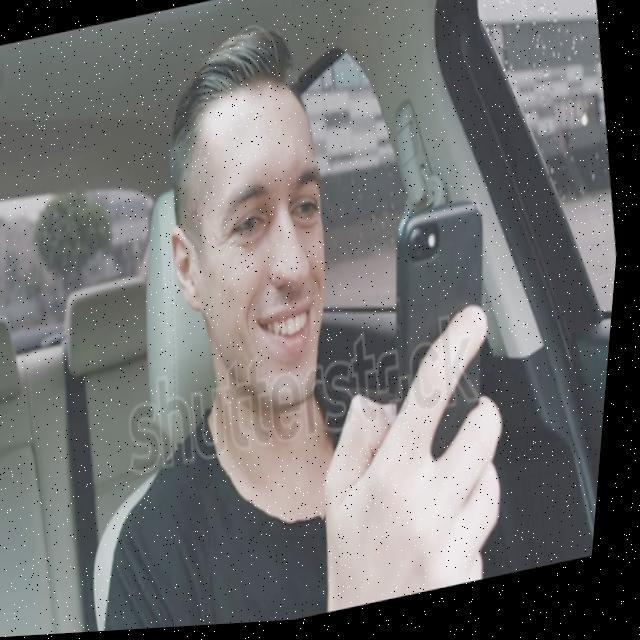PhoneCall: (372, 196, 528, 466)
